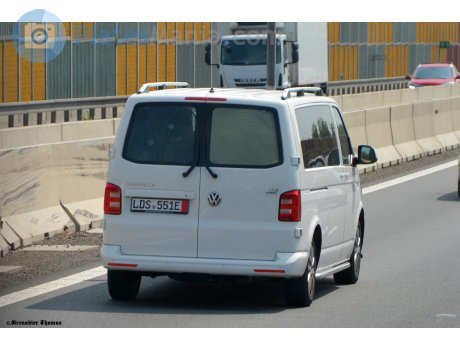License Plates: (129, 198, 184, 208)
